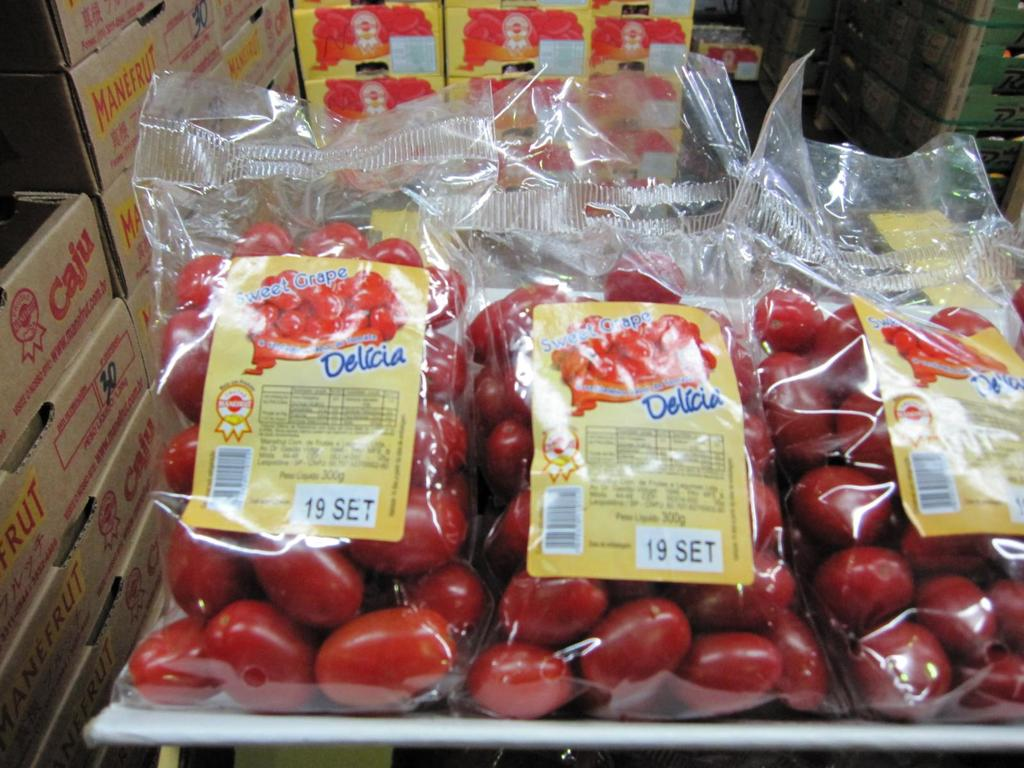Tomato: (124, 223, 1023, 721), (317, 604, 454, 708)
